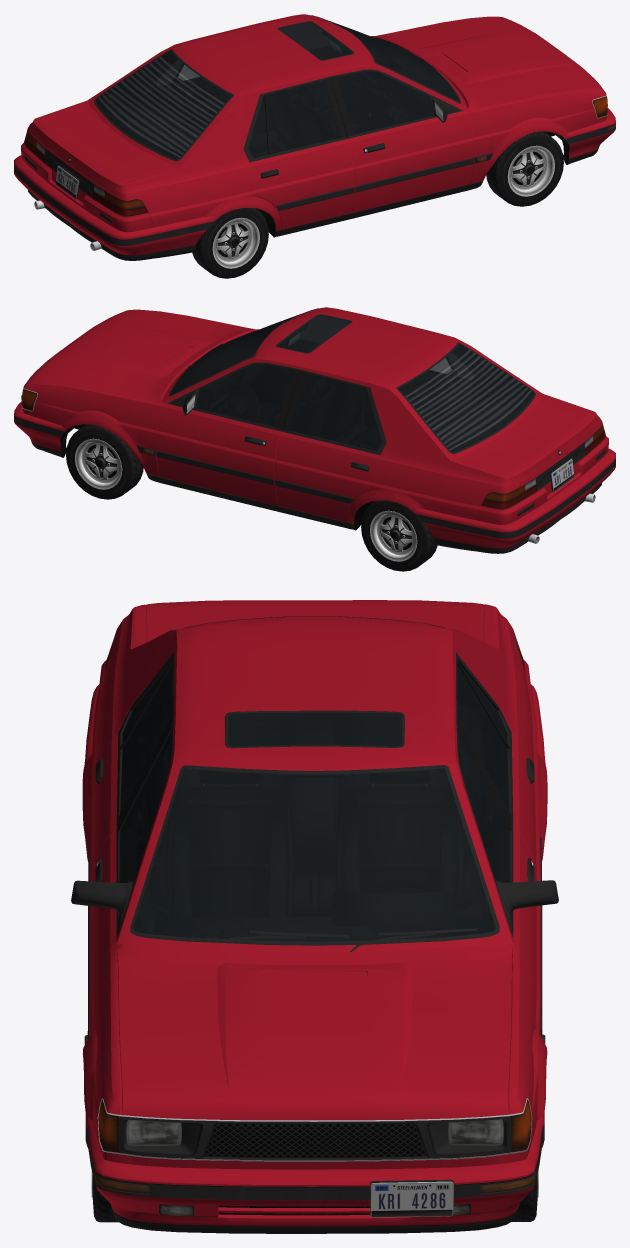
The model's file is kiri.glb.
3 views of the same model, one above another, from view 1: azimuth 30°, elevation 25°; view 2: azimuth 150°, elevation 25°; view 3: azimuth 270°, elevation 25° (orthographic). The views are drawn at different scales.
Parts seen in each view (by area): view 1: kiri86_Body_kiri86_Bodymat_0, kiri86_Interior_UCB_Interior_Trim_0, kiri86_Hood_kiri86_Bodymat_0, kiri86_Bottom_UCB_BOTTOM_GT_0, kiri86_Rear_window_UCB_Lights_and_Glass_Transperent_0, kiri86_Body_Glass_UCB_Lights_and_Glass_Transperent_0, kiri86_Trunk_door_kiri86_Bodymat_0, kiri86_Wheel_FR_RB1c_Tire_1k_0, kiri86_Glass_Passenger_UCB_Lights_and_Glass_Transperent_0, kiri86_Wheel_RR_RB1c_Tire_1k_0, kiri86_Bumper_rear_kiri86_Bodymat_0, kiri86_bumper_rear_inner_UCB_BOTTOM_GT_0 (+7 smaller); view 2: kiri86_Body_kiri86_Bodymat_0, kiri86_Interior_UCB_Interior_Trim_0, kiri86_Hood_kiri86_Bodymat_0, kiri86_Bottom_UCB_BOTTOM_GT_0, kiri86_Rear_window_UCB_Lights_and_Glass_Transperent_0, kiri86_Body_Glass_UCB_Lights_and_Glass_Transperent_0, kiri86_Trunk_door_kiri86_Bodymat_0, kiri86_Wheel_FL_RB1c_Tire_1k_0, kiri86_Glass_Driver_UCB_Lights_and_Glass_Transperent_0, kiri86_Wheel_RL_RB1c_Tire_1k_0, kiri86_Bumper_rear_kiri86_Bodymat_0, kiri86_bumper_rear_inner_UCB_BOTTOM_GT_0 (+8 smaller); view 3: kiri86_Body_kiri86_Bodymat_0, kiri86_Interior_UCB_Interior_Trim_0, kiri86_Hood_kiri86_Bodymat_0, kiri86_Windshield_UCB_Lights_and_Glass_Transperent_0, kiri86_Bottom_UCB_BOTTOM_GT_0, kiri86_Bumper_front_kiri86_Bodymat_0, kiri86_Body_Glass_UCB_Lights_and_Glass_Transperent_0, kiri86_Bumper_Front_Inner_UCB_BOTTOM_GT_0, kiri86_Trunk_door_kiri86_Bodymat_0, kiri86_Headlights_Glass_UCB_Lights_and_Glass_Transperent_0, kiri86_Glass_Driver_UCB_Lights_and_Glass_Transperent_0, kiri86_Glass_Passenger_UCB_Lights_and_Glass_Transperent_0 (+4 smaller).
Part boxes in pixels (bbox=[...]): kiri86_Body_kiri86_Bodymat_0: bbox=[21, 14, 606, 232]; kiri86_Interior_UCB_Interior_Trim_0: bbox=[96, 23, 458, 158]; kiri86_Hood_kiri86_Bodymat_0: bbox=[371, 17, 603, 109]; kiri86_Bottom_UCB_BOTTOM_GT_0: bbox=[24, 15, 607, 250]; kiri86_Rear_window_UCB_Lights_and_Glass_Transperent_0: bbox=[95, 50, 231, 159]; kiri86_Body_Glass_UCB_Lights_and_Glass_Transperent_0: bbox=[157, 22, 352, 157]; kiri86_Trunk_door_kiri86_Bodymat_0: bbox=[30, 104, 172, 194]; kiri86_Wheel_FR_RB1c_Tire_1k_0: bbox=[486, 131, 563, 206]; kiri86_Glass_Passenger_UCB_Lights_and_Glass_Transperent_0: bbox=[336, 71, 434, 134]; kiri86_Wheel_RR_RB1c_Tire_1k_0: bbox=[192, 208, 268, 278]; kiri86_Bumper_rear_kiri86_Bodymat_0: bbox=[14, 155, 221, 255]; kiri86_bumper_rear_inner_UCB_BOTTOM_GT_0: bbox=[14, 166, 213, 260]; kiri86_Body_kiri86_Bodymat_0: bbox=[23, 307, 608, 524]; kiri86_Interior_UCB_Interior_Trim_0: bbox=[171, 316, 533, 451]; kiri86_Hood_kiri86_Bodymat_0: bbox=[26, 310, 258, 402]; kiri86_Bottom_UCB_BOTTOM_GT_0: bbox=[22, 308, 605, 543]; kiri86_Rear_window_UCB_Lights_and_Glass_Transperent_0: bbox=[398, 344, 534, 452]; kiri86_Body_Glass_UCB_Lights_and_Glass_Transperent_0: bbox=[277, 315, 472, 450]; kiri86_Trunk_door_kiri86_Bodymat_0: bbox=[457, 397, 599, 487]; kiri86_Wheel_FL_RB1c_Tire_1k_0: bbox=[66, 424, 143, 499]; kiri86_Glass_Driver_UCB_Lights_and_Glass_Transperent_0: bbox=[195, 364, 293, 427]; kiri86_Wheel_RL_RB1c_Tire_1k_0: bbox=[361, 500, 437, 571]; kiri86_Bumper_rear_kiri86_Bodymat_0: bbox=[407, 448, 615, 548]; kiri86_bumper_rear_inner_UCB_BOTTOM_GT_0: bbox=[416, 459, 615, 553]; kiri86_Body_kiri86_Bodymat_0: bbox=[82, 604, 547, 1169]; kiri86_Interior_UCB_Interior_Trim_0: bbox=[121, 667, 508, 940]; kiri86_Hood_kiri86_Bodymat_0: bbox=[117, 944, 512, 1120]; kiri86_Windshield_UCB_Lights_and_Glass_Transperent_0: bbox=[134, 768, 495, 941]; kiri86_Bottom_UCB_BOTTOM_GT_0: bbox=[71, 616, 558, 1161]; kiri86_Bumper_front_kiri86_Bodymat_0: bbox=[85, 1113, 544, 1226]; kiri86_Body_Glass_UCB_Lights_and_Glass_Transperent_0: bbox=[120, 665, 509, 813]; kiri86_Bumper_Front_Inner_UCB_BOTTOM_GT_0: bbox=[85, 1118, 544, 1233]; kiri86_Trunk_door_kiri86_Bodymat_0: bbox=[146, 600, 483, 642]; kiri86_Headlights_Glass_UCB_Lights_and_Glass_Transperent_0: bbox=[98, 1100, 531, 1152]; kiri86_Glass_Driver_UCB_Lights_and_Glass_Transperent_0: bbox=[458, 730, 510, 882]; kiri86_Glass_Passenger_UCB_Lights_and_Glass_Transperent_0: bbox=[119, 730, 171, 882].
Size of the model in its own units: 4.31 by 1.32 by 1.76.
7 materials, 6 textured.
